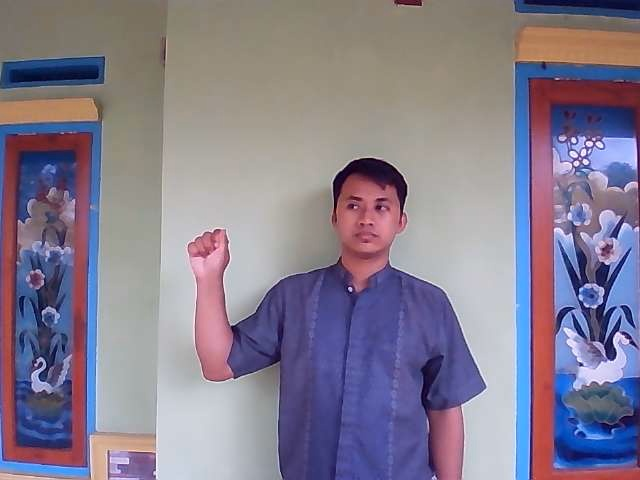A: (179, 222, 236, 291)
